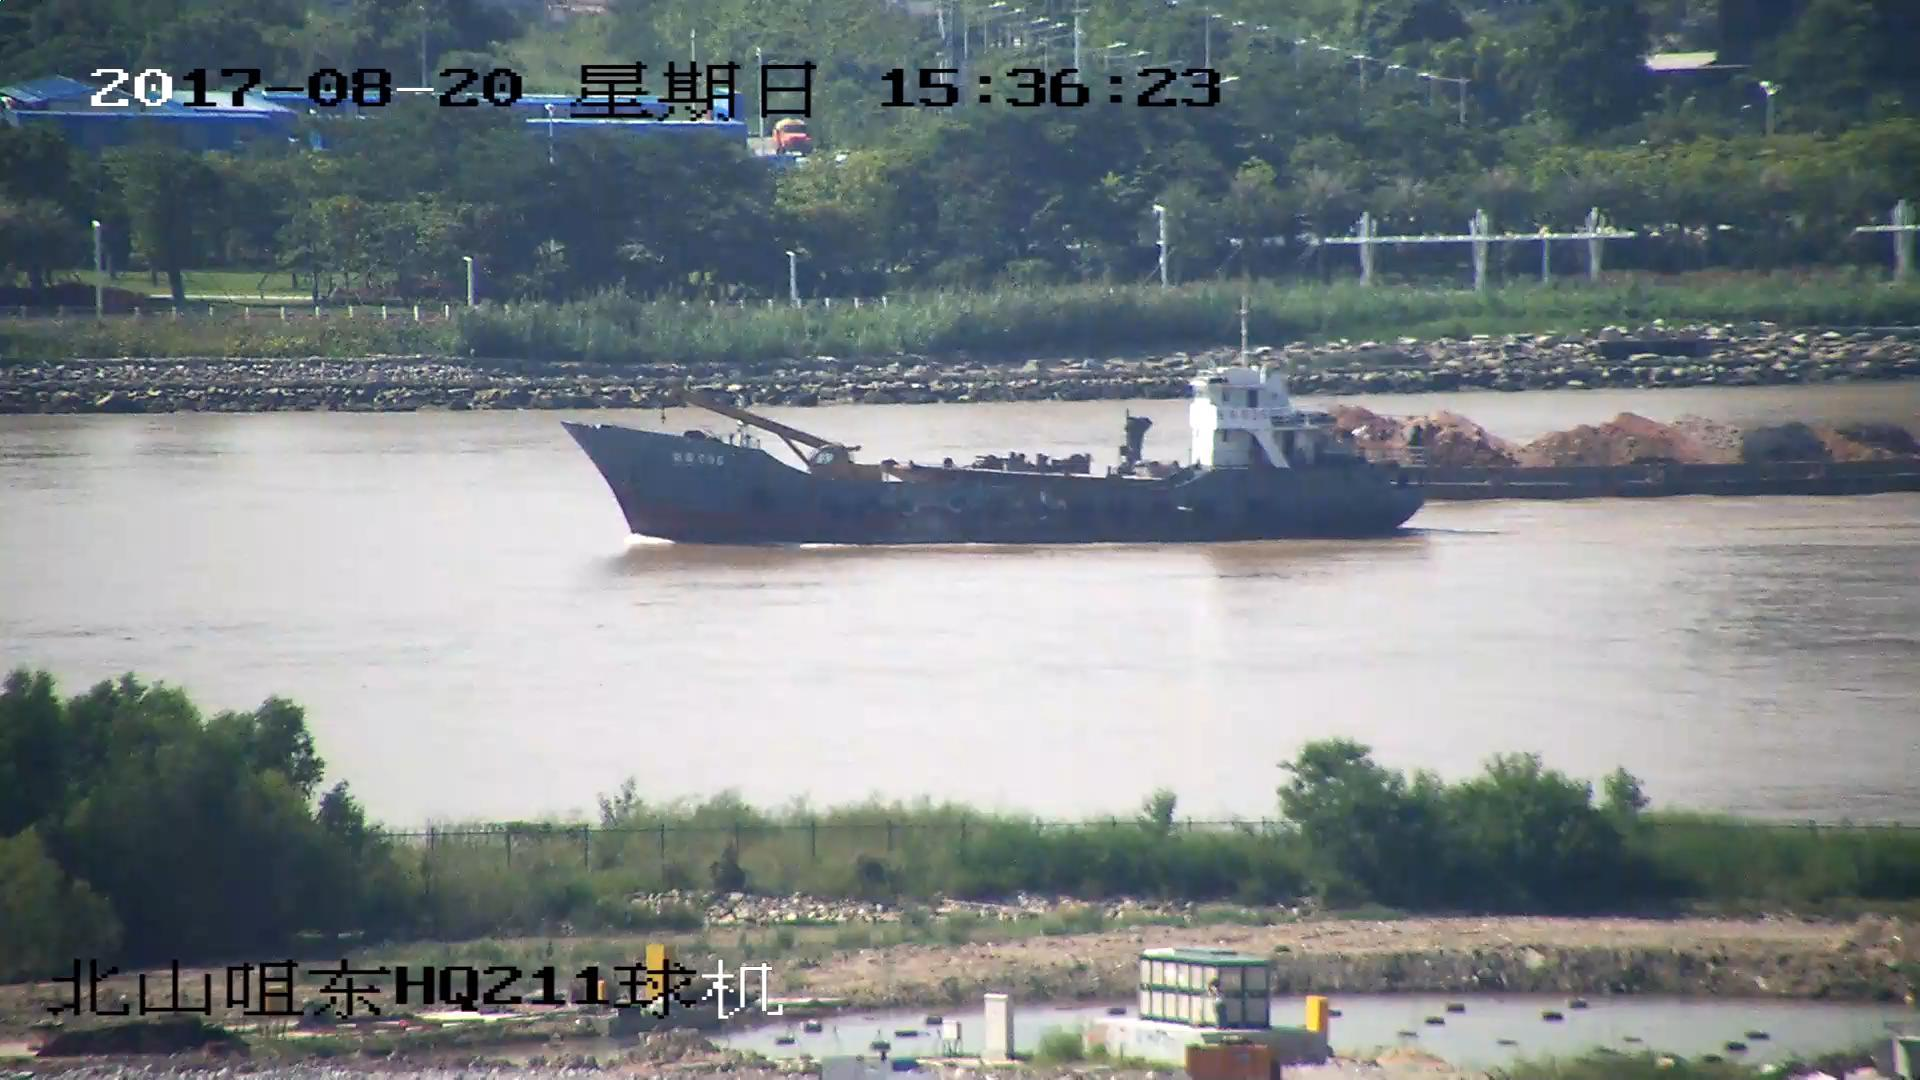Ship: (568, 274, 1422, 551), (994, 404, 1920, 502)
